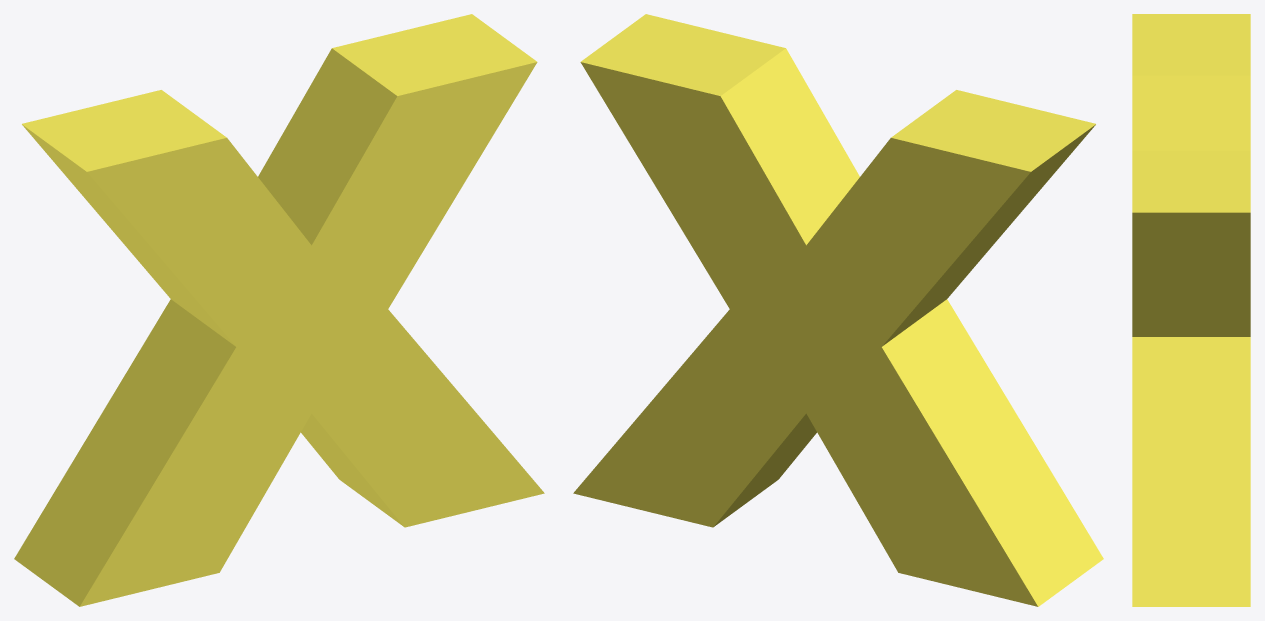
The model's file is huruf_kecil_x.glb.
The picture shows the model from 3 angles, left to right: view 1: azimuth 30°, elevation 25°; view 2: azimuth 150°, elevation 25°; view 3: azimuth 270°, elevation 25°; orthographic projection. The views are drawn at different scales.
Visible parts, largest first — view 1: geometry_0; view 2: geometry_0; view 3: geometry_0.
Part boxes in pixels (x1,y1,x2,y2): geometry_0: [14, 14, 544, 606]; geometry_0: [573, 14, 1103, 606]; geometry_0: [1132, 14, 1250, 606].
Bounding box in the file's own units: 6.15 × 5.47 × 1.5.
